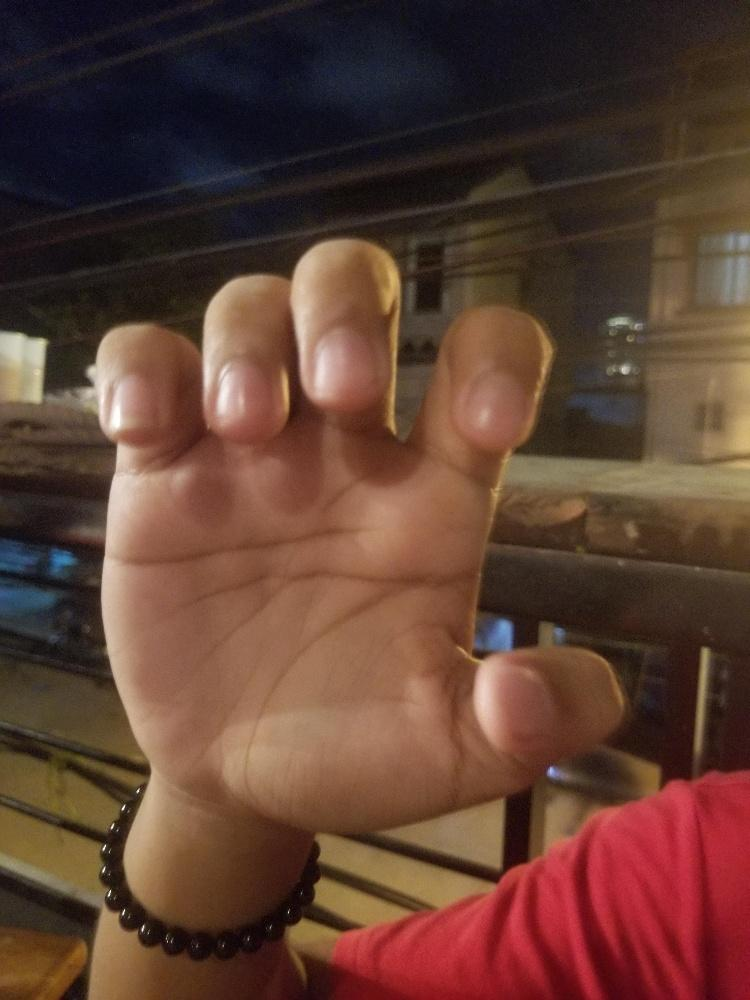e: (94, 235, 628, 832)
